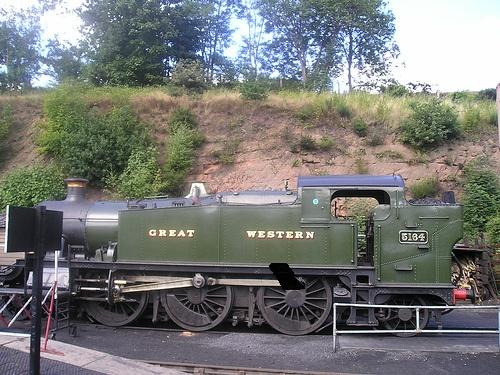tampered: (270, 264, 305, 290)
